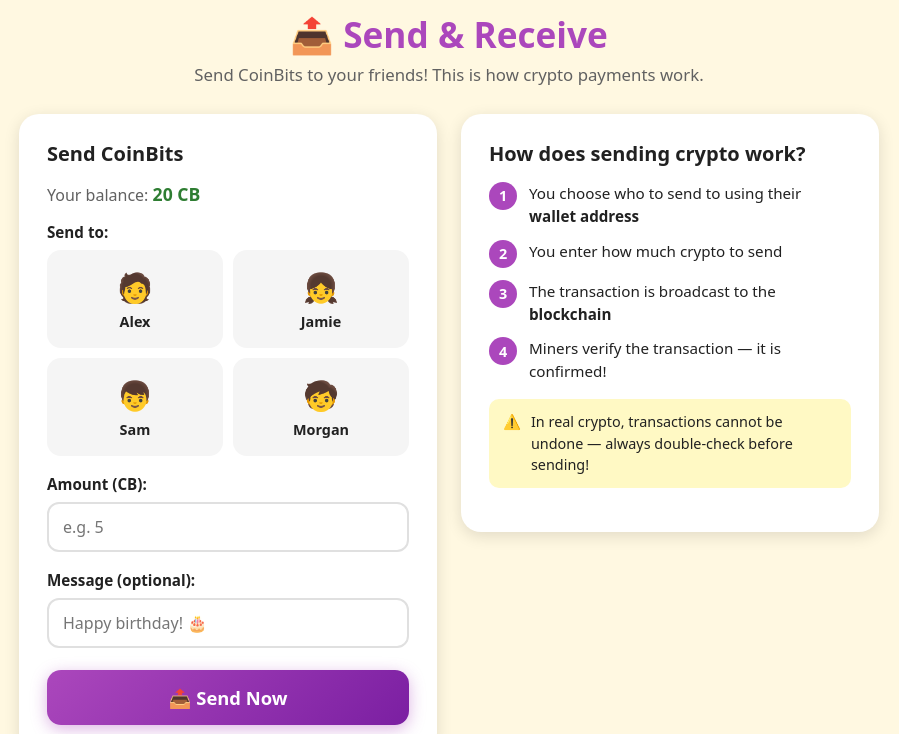
Transfer page › shows success message after a valid send
The width and height of the screenshot is (899, 734).
Click the text "Alex" at (135, 322), box [120,312,150,331]
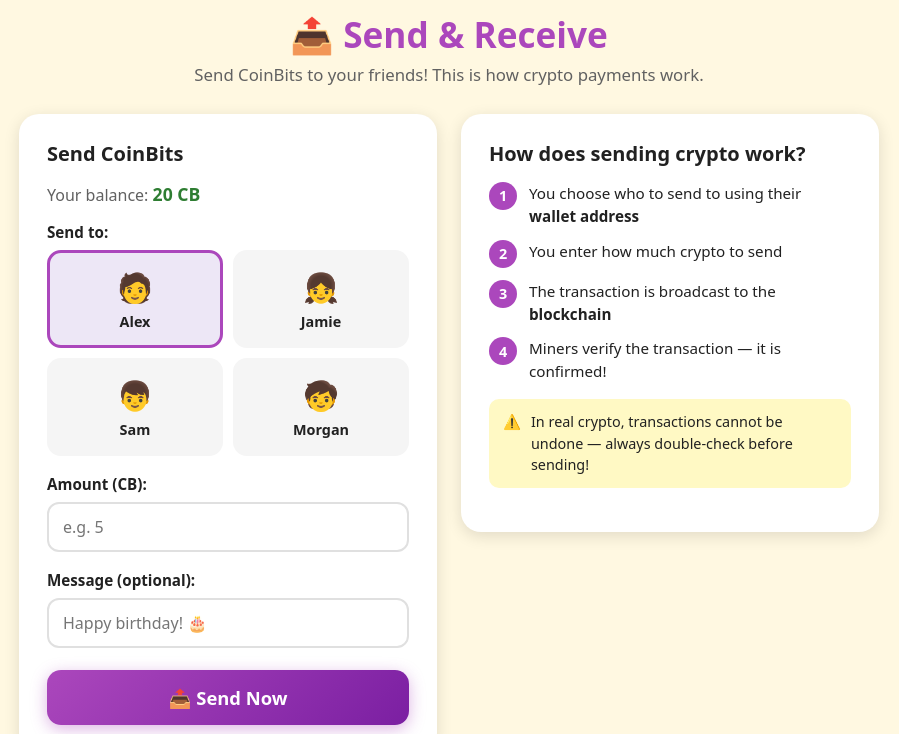
Type "5" into the number field labelled "Amount (CB):" at (228, 527), box [47,502,409,552]
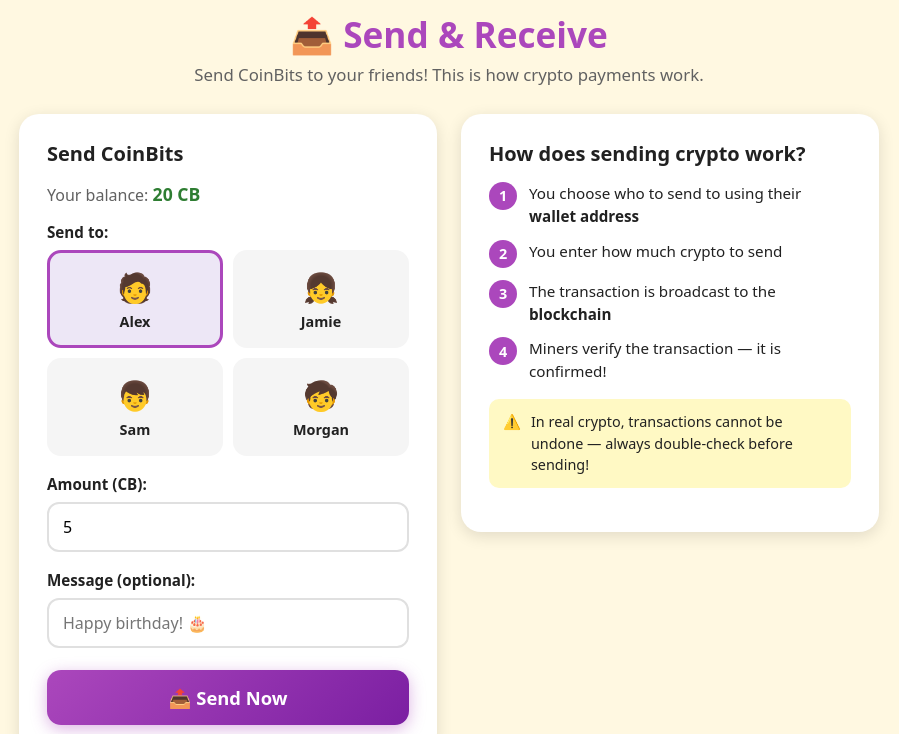
Click the button "📤 Send Now" at (228, 698), box [47,670,409,725]
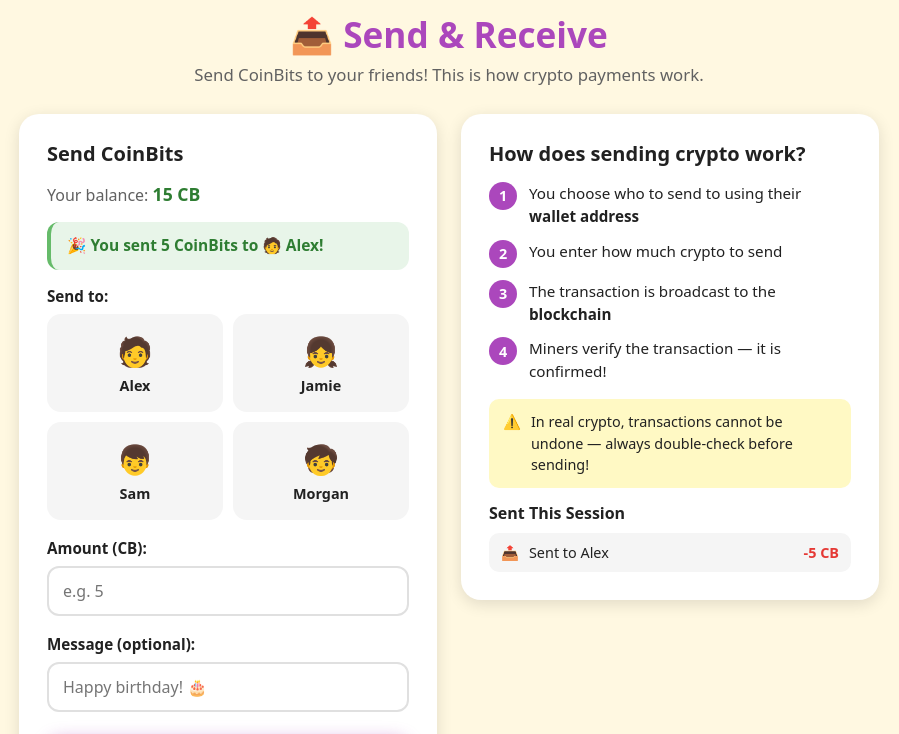
Now the text "🎉 You sent 5 CoinBits to 🧑 Alex!" is shown, box [47,222,409,270]
